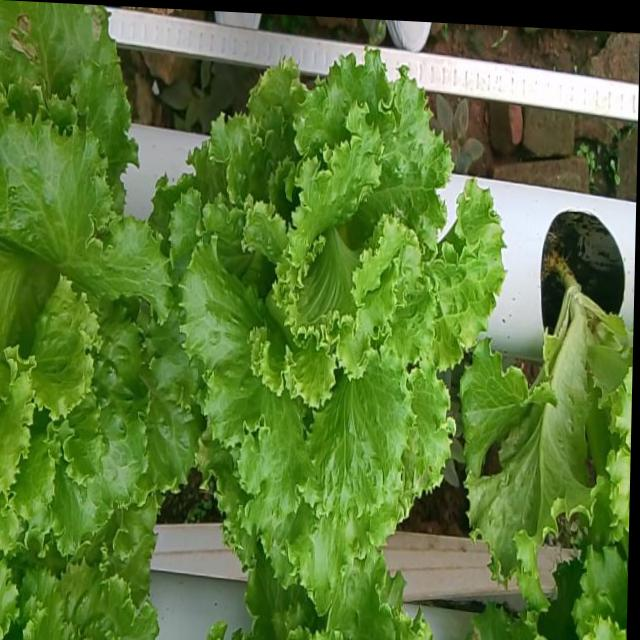Mature: (160, 39, 495, 576), (0, 97, 191, 543)
